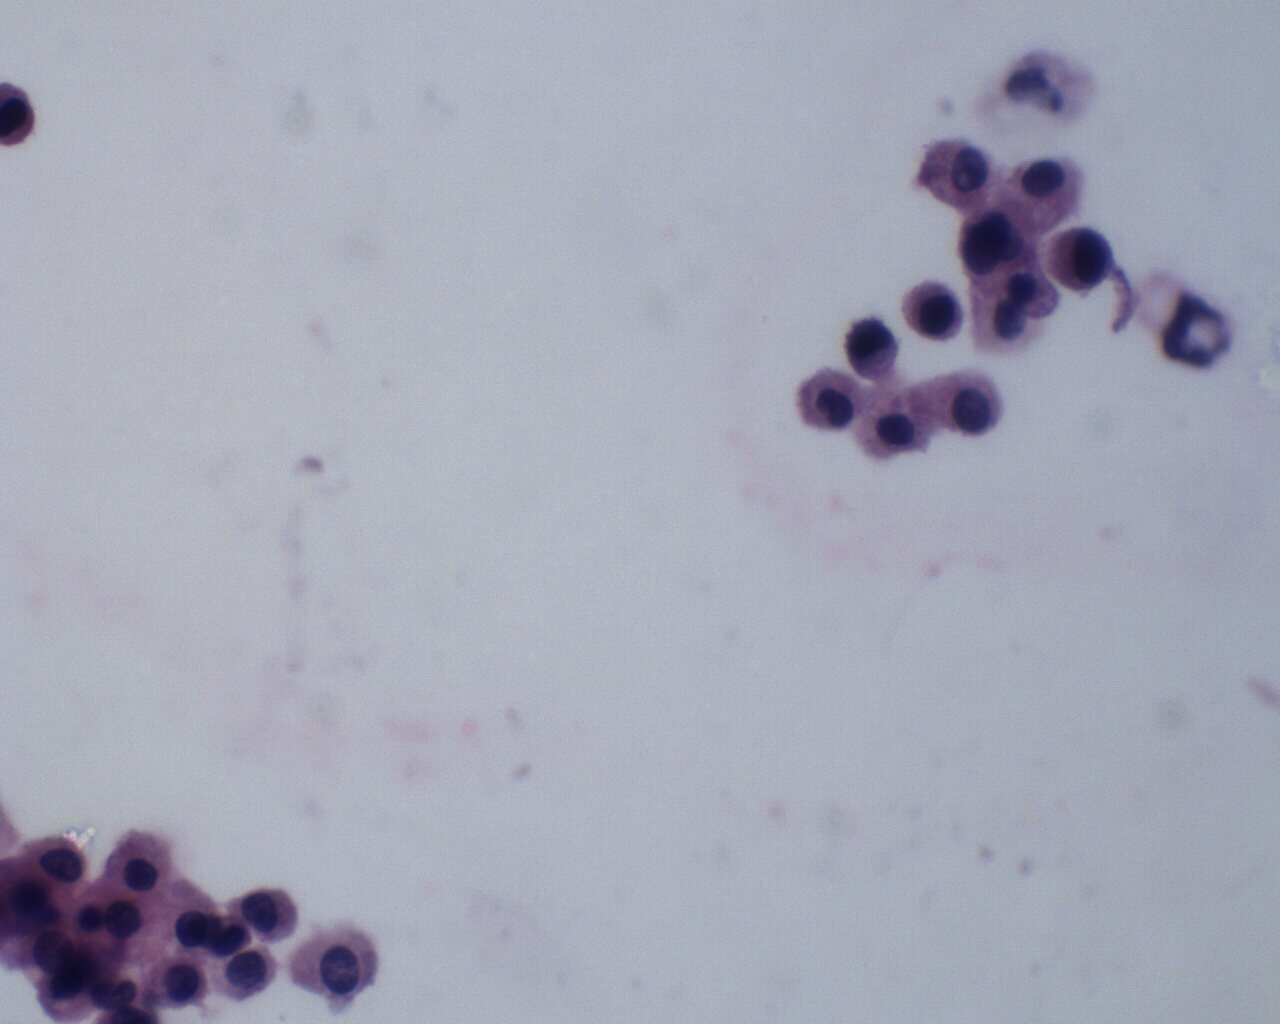ab: (289, 917, 386, 1004), (226, 881, 302, 947)
meso: (929, 366, 1008, 442), (857, 389, 937, 462), (1011, 152, 1085, 229), (795, 366, 867, 439), (106, 830, 180, 897), (900, 278, 970, 344)
